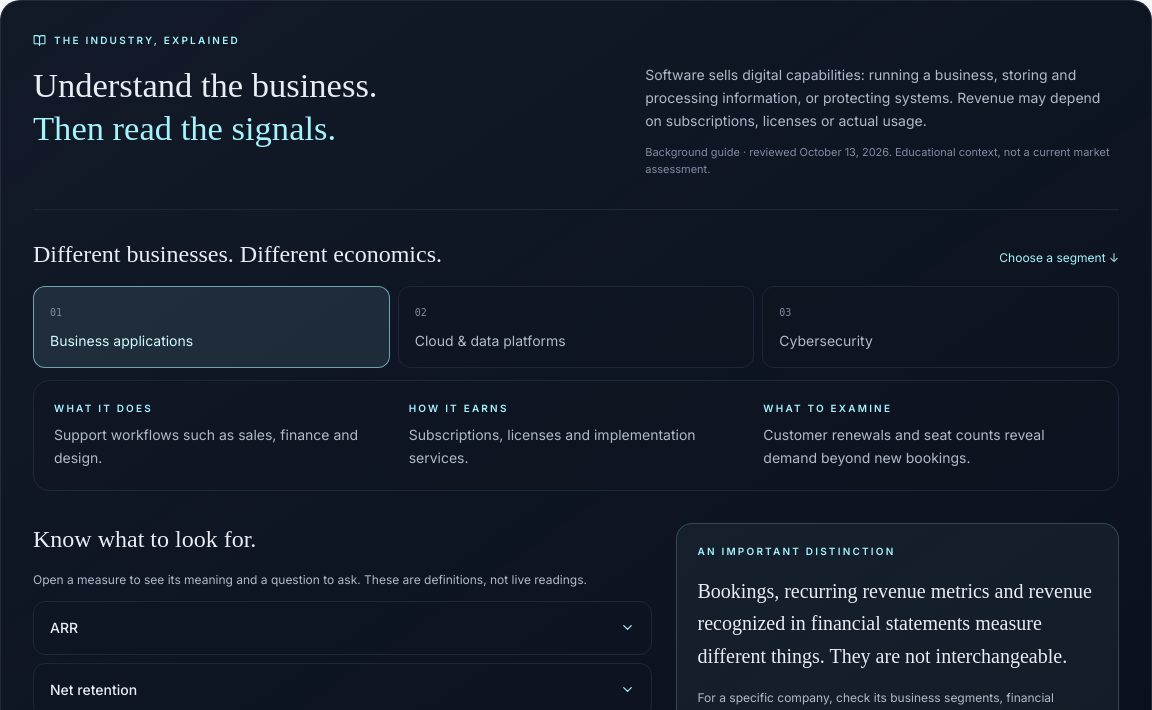
Test: provides a usable distinct guide for software even without reporting
Click the button "02 Cloud & data platforms".
click(490, 341)  # box [398,286,754,368]
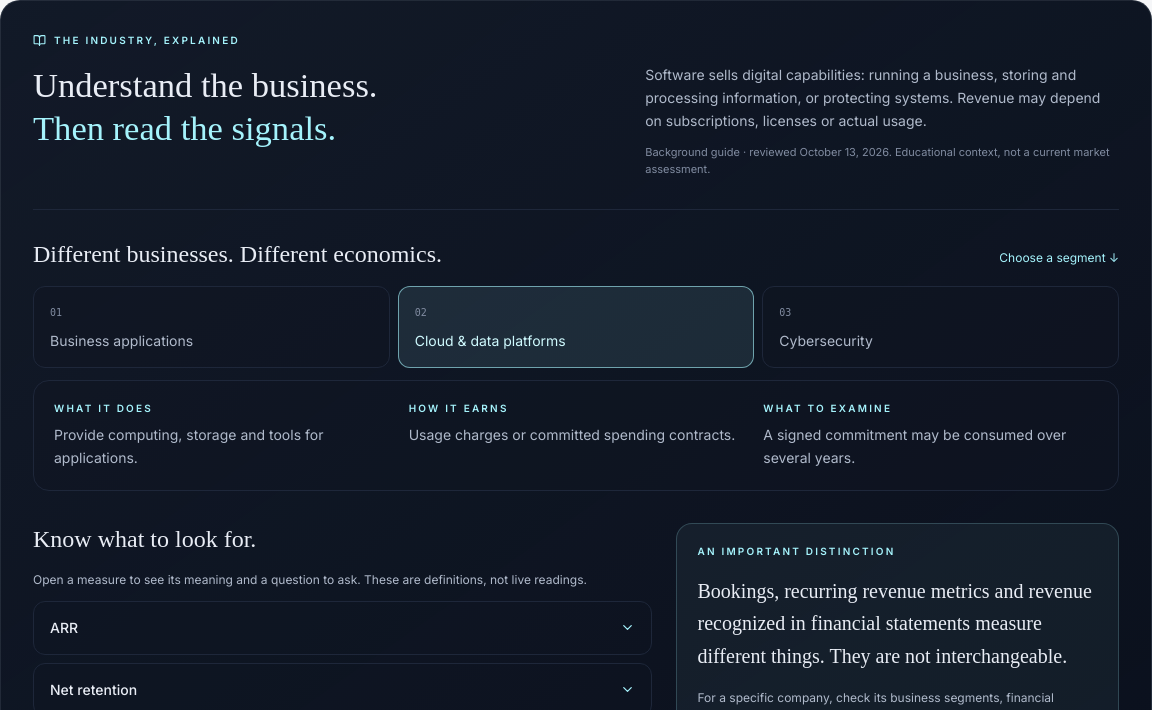
Expected: the text "definitions, not live readings" is shown, [33,572,587,587]
Expected: the text "Usage charges or committed spending contracts." is shown, [409,424,743,447]
Expected: the text "Subscriptions, licenses and implementation services." is gone
